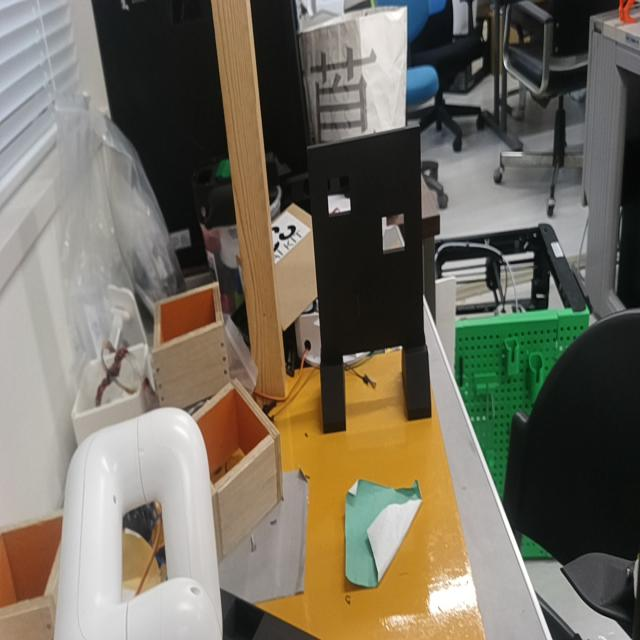Obstacle: (382, 212, 404, 254), (328, 174, 351, 214)
Wall: (307, 128, 424, 358)
